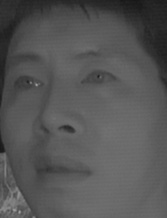eye: (80, 68, 120, 89), (12, 72, 45, 96)
mouth: (26, 148, 95, 189)
